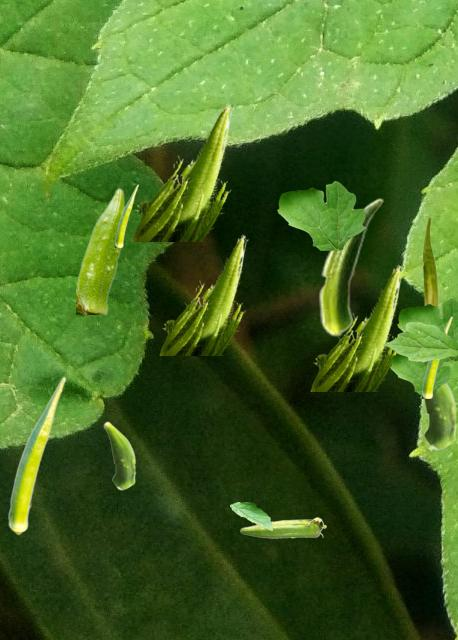okra: (131, 102, 233, 240), (310, 264, 403, 390), (159, 234, 247, 354), (8, 376, 65, 534), (318, 198, 382, 336), (76, 187, 125, 313), (422, 316, 451, 397), (423, 383, 456, 449), (103, 421, 135, 489), (240, 517, 325, 537), (115, 184, 137, 246), (422, 217, 437, 305)
